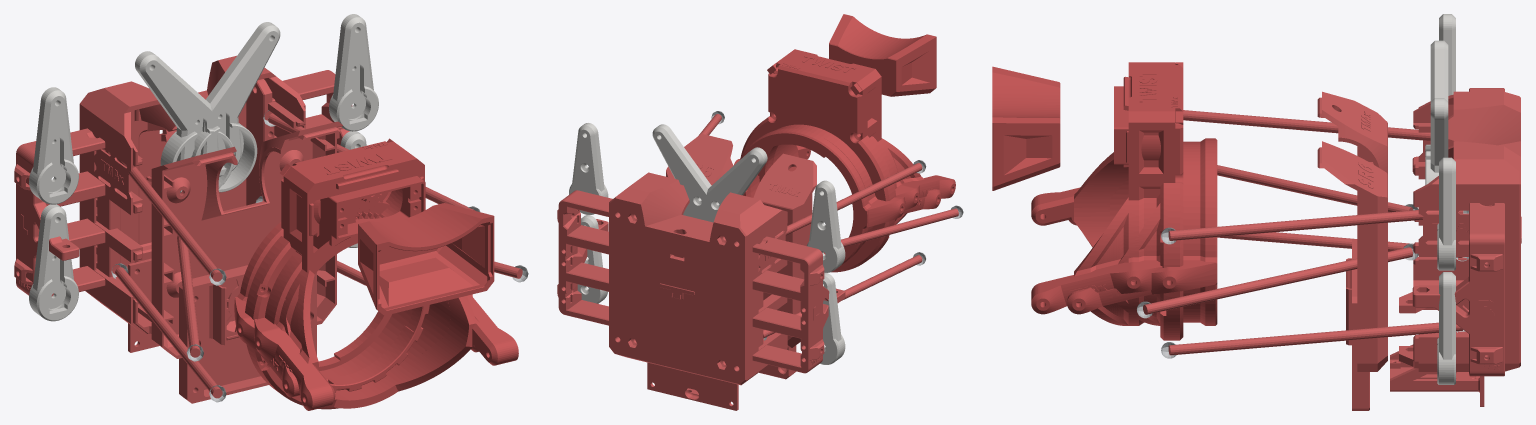
The model's file is ORS6_home_colored.glb.
The picture shows the model from 3 angles, left to right: view 1: azimuth 30°, elevation 25°; view 2: azimuth 150°, elevation 25°; view 3: azimuth 270°, elevation 25°; orthographic projection. The views are drawn at different scales.
Parts seen in each view (by area): view 1: Twist_Body, Lid, Base, Twist_Lid, L_Frame, Shield, Receiver, R_Pitcher, L_Pitcher, Arm_LowerLeft, Arm_LowerRight, Arm_UpperLeft (+8 smaller); view 2: Base, Twist_Base, L_Frame, Lid, R_Frame, Twist_Lid, Receiver, Twist_Body, Tray, R_Pitcher, Arm_LowerLeft, Arm_LowerRight (+6 smaller); view 3: Twist_Body, Base, Lid, Receiver, R_Frame, Twist_Lid, Twist_Base, Rod_UpperRight, Rod_LowerRight, Rod_RightPitch, Rod_LowerLeft, Tray (+8 smaller).
Part boxes in pixels (<box>): Twist_Body: <box>250,143,518,410</box>; Lid: <box>151,121,342,358</box>; Base: <box>79,55,305,335</box>; Twist_Lid: <box>358,203,494,315</box>; L_Frame: <box>14,128,120,296</box>; Shield: <box>179,265,316,403</box>; Receiver: <box>234,213,478,397</box>; R_Pitcher: <box>191,22,280,192</box>; L_Pitcher: <box>135,51,234,192</box>; Arm_LowerLeft: <box>29,87,78,204</box>; Arm_LowerRight: <box>329,14,378,131</box>; Arm_UpperLeft: <box>29,204,78,321</box>; Base: <box>609,172,787,385</box>; Twist_Base: <box>740,61,893,272</box>; L_Frame: <box>752,236,845,373</box>; Lid: <box>666,133,816,347</box>; R_Frame: <box>557,190,612,325</box>; Twist_Lid: <box>829,14,936,96</box>; Receiver: <box>733,124,941,264</box>; Twist_Body: <box>758,49,955,256</box>; Tray: <box>647,362,738,410</box>; R_Pitcher: <box>652,124,711,221</box>; Arm_LowerLeft: <box>807,180,845,272</box>; Arm_LowerRight: <box>569,123,608,214</box>; Twist_Body: <box>1031,62,1169,340</box>; Base: <box>1399,91,1520,371</box>; Lid: <box>1317,91,1387,371</box>; Receiver: <box>1067,138,1217,325</box>; R_Frame: <box>1412,203,1504,376</box>; Twist_Lid: <box>992,66,1060,190</box>; Twist_Base: <box>1169,62,1183,340</box>; Rod_UpperRight: <box>1168,322,1462,355</box>; Rod_LowerRight: <box>1168,210,1463,240</box>; Rod_RightPitch: <box>1143,247,1412,314</box>; Rod_LowerLeft: <box>1183,110,1430,140</box>; Tray: <box>1390,284,1484,406</box>.
Size of the model in its own units: 227 by 202 by 310.
